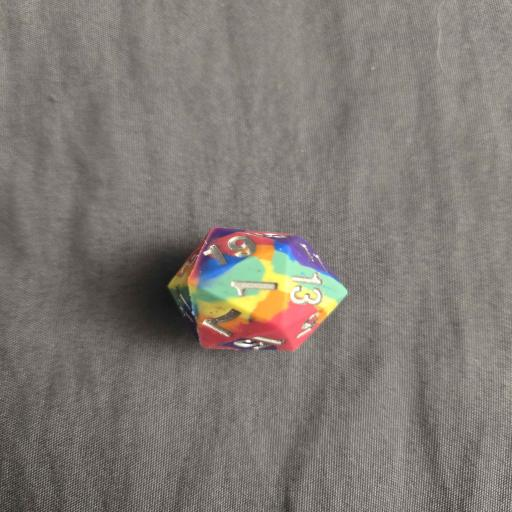twenty sided dice: (167, 227, 347, 351)
